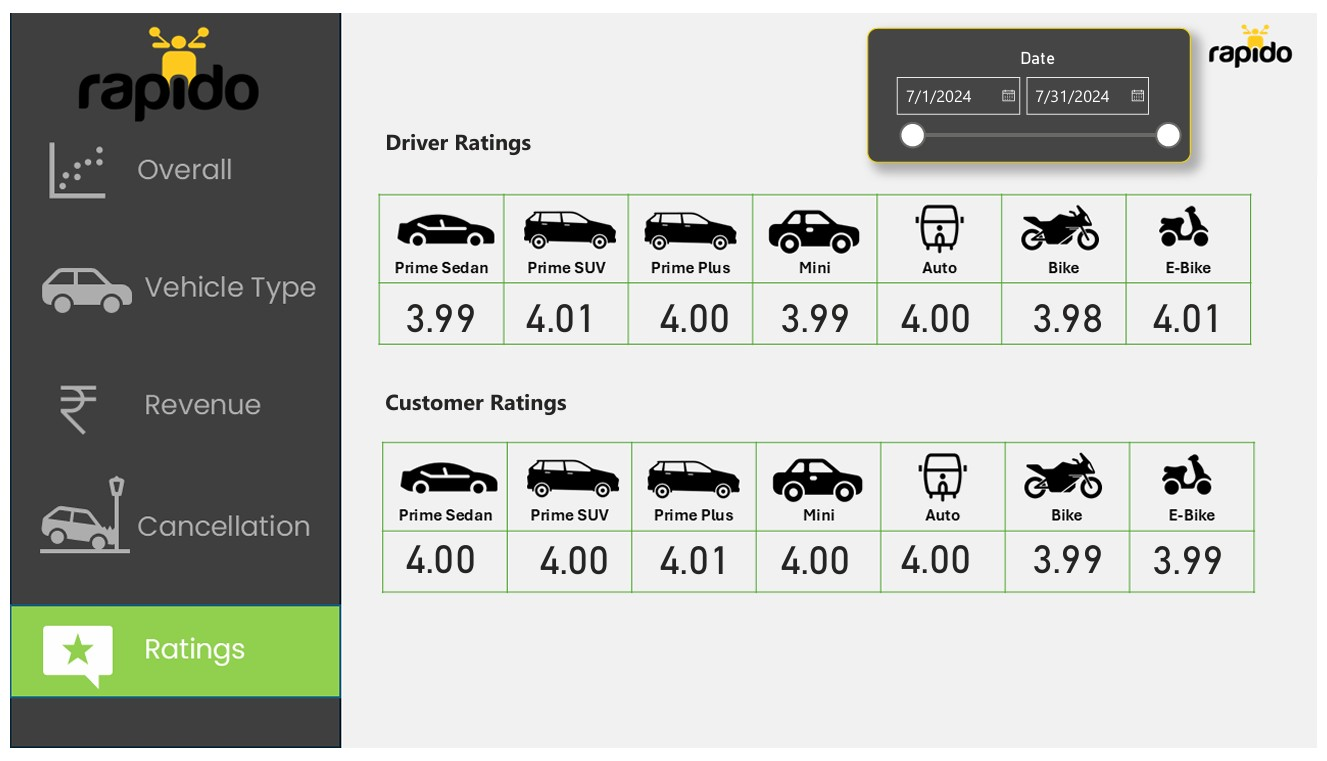

The page's visual inventory and layout, read from the dashboard file:
{"tool":"powerbi","page":{"name":"Ratings","canvas":[1280,720],"ordinal":4},"visuals":[{"type":"actionButton","box":[0,222,319.7,88.1],"z":0},{"type":"actionButton","box":[0,343.8,319.7,88.1],"z":1000},{"type":"actionButton","box":[0,457.2,319.7,88.1],"z":2000},{"type":"actionButton","box":[0,112.2,319.7,88.1],"z":3000},{"type":"card","fields":{"Values":["Avg(July.Driver_Ratings)"]},"box":[362,265.7,118.1,55.9],"z":3001},{"type":"card","fields":{"Values":["Avg(July.Driver_Ratings)"]},"box":[610.6,265.7,118.1,55.9],"z":3002},{"type":"card","fields":{"Values":["Avg(July.Driver_Ratings)"]},"box":[728.7,265.7,118.1,55.9],"z":3003},{"type":"card","fields":{"Values":["Avg(July.Driver_Ratings)"]},"box":[846.8,265.7,118.1,55.9],"z":3004},{"type":"card","fields":{"Values":["Avg(July.Driver_Ratings)"]},"box":[975.8,265.7,118.1,55.9],"z":3005},{"type":"card","fields":{"Values":["Avg(July.Driver_Ratings)"]},"box":[1093.9,265.7,118.1,55.9],"z":3006},{"type":"card","fields":{"Values":["Avg(July.Driver_Ratings)"]},"box":[480.1,265.7,118.1,55.9],"z":3007},{"type":"card","fields":{"Values":["Avg(July.Customer_Rating)"]},"box":[362,501.9,118.1,55.9],"z":3008},{"type":"textbox","box":[362,105.7,177.1,51.3],"z":3009},{"type":"textbox","box":[362,360.5,208.2,45.1],"z":3011},{"type":"card","fields":{"Values":["Avg(July.Customer_Rating)"]},"box":[610.6,503.4,118.1,55.9],"z":3012},{"type":"card","fields":{"Values":["Avg(July.Customer_Rating)"]},"box":[728.7,503.4,118.1,55.9],"z":3013},{"type":"card","fields":{"Values":["Avg(July.Customer_Rating)"]},"box":[846.8,501.9,118.1,55.9],"z":3014},{"type":"card","fields":{"Values":["Avg(July.Customer_Rating)"]},"box":[975.8,501.9,118.1,55.9],"z":3015},{"type":"card","fields":{"Values":["Avg(July.Customer_Rating)"]},"box":[1093.9,503.4,118.1,55.9],"z":3016},{"type":"card","fields":{"Values":["Avg(July.Customer_Rating)"]},"box":[492.5,503.4,118.1,55.9],"z":3017},{"type":"slicer","title":"Date","fields":{"Values":["July.Date"]},"box":[839,14,317,132.1],"z":3018}]}

Visuals, with their boxes in screenshot pixels (x1, y1, x2, y2), scaled from the page's 1280x720 canvas onto the 1327x761 screenshot:
actionButton: locate(0, 235, 331, 328)
actionButton: locate(0, 363, 331, 456)
actionButton: locate(0, 483, 331, 576)
actionButton: locate(0, 119, 331, 212)
card - Avg(July.Driver_Ratings): locate(375, 281, 498, 340)
card - Avg(July.Driver_Ratings): locate(633, 281, 755, 340)
card - Avg(July.Driver_Ratings): locate(755, 281, 878, 340)
card - Avg(July.Driver_Ratings): locate(878, 281, 1000, 340)
card - Avg(July.Driver_Ratings): locate(1012, 281, 1134, 340)
card - Avg(July.Driver_Ratings): locate(1134, 281, 1257, 340)
card - Avg(July.Driver_Ratings): locate(498, 281, 620, 340)
card - Avg(July.Customer_Rating): locate(375, 530, 498, 590)
textbox: locate(375, 112, 559, 166)
textbox: locate(375, 381, 591, 429)
card - Avg(July.Customer_Rating): locate(633, 532, 755, 591)
card - Avg(July.Customer_Rating): locate(755, 532, 878, 591)
card - Avg(July.Customer_Rating): locate(878, 530, 1000, 590)
card - Avg(July.Customer_Rating): locate(1012, 530, 1134, 590)
card - Avg(July.Customer_Rating): locate(1134, 532, 1257, 591)
card - Avg(July.Customer_Rating): locate(511, 532, 633, 591)
"Date" slicer: locate(870, 15, 1198, 154)
